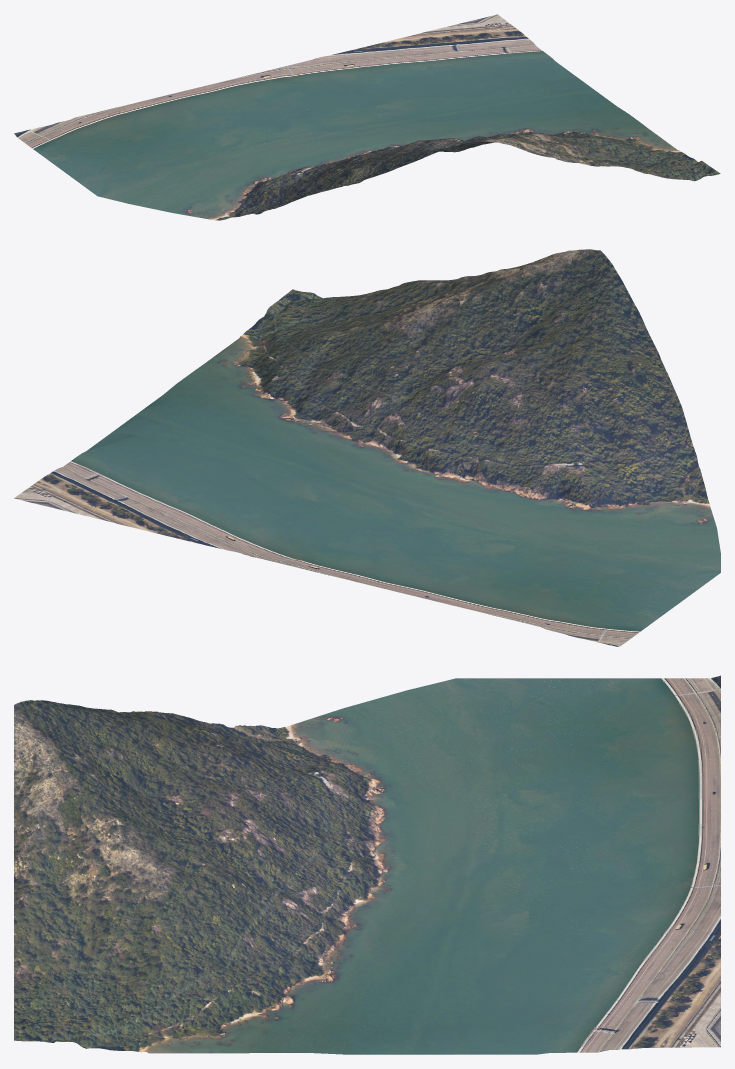
The model's file is terrain_04.glb.
3 views of the same model, one above another, from view 1: azimuth 30°, elevation 25°; view 2: azimuth 150°, elevation 25°; view 3: azimuth 270°, elevation 25° (orthographic). The views are drawn at different scales.
Visible parts, largest first — view 1: T09000168000106E11.001; view 2: T09000168000106E11.001; view 3: T09000168000106E11.001.
Boxes of the visible parts, x1=… form: T09000168000106E11.001: x1=14, y1=14, x2=720, y2=220; T09000168000106E11.001: x1=14, y1=249, x2=720, y2=646; T09000168000106E11.001: x1=14, y1=675, x2=720, y2=1054.
Size of the model in its own units: 750 by 149 by 600.
1 material, 1 textured.
